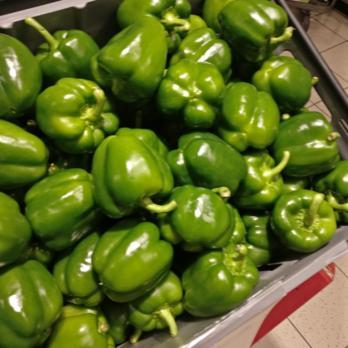Capsicum: (0, 29, 185, 347), (115, 1, 263, 307), (253, 59, 339, 250)
